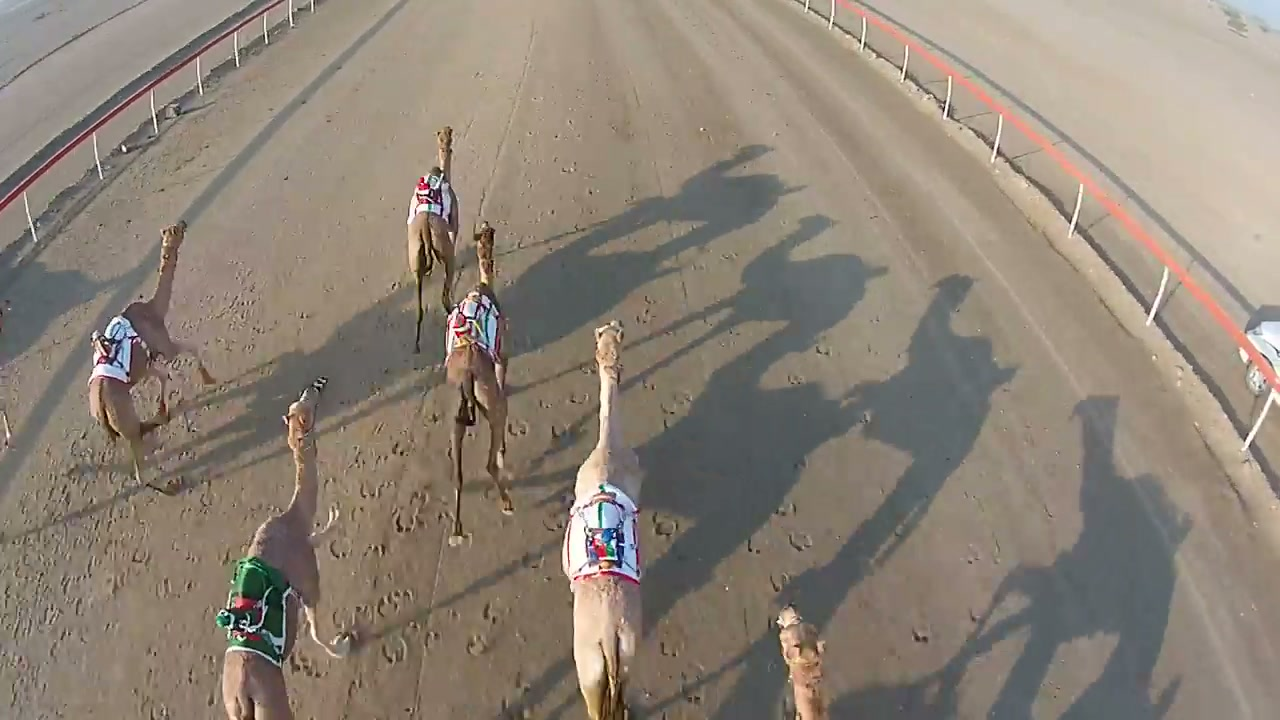animal_footprint: (311, 430, 515, 691)
